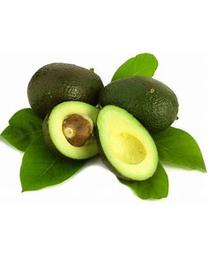avocado: (96, 103, 160, 182), (27, 62, 107, 123), (102, 76, 179, 134), (40, 99, 106, 162)
